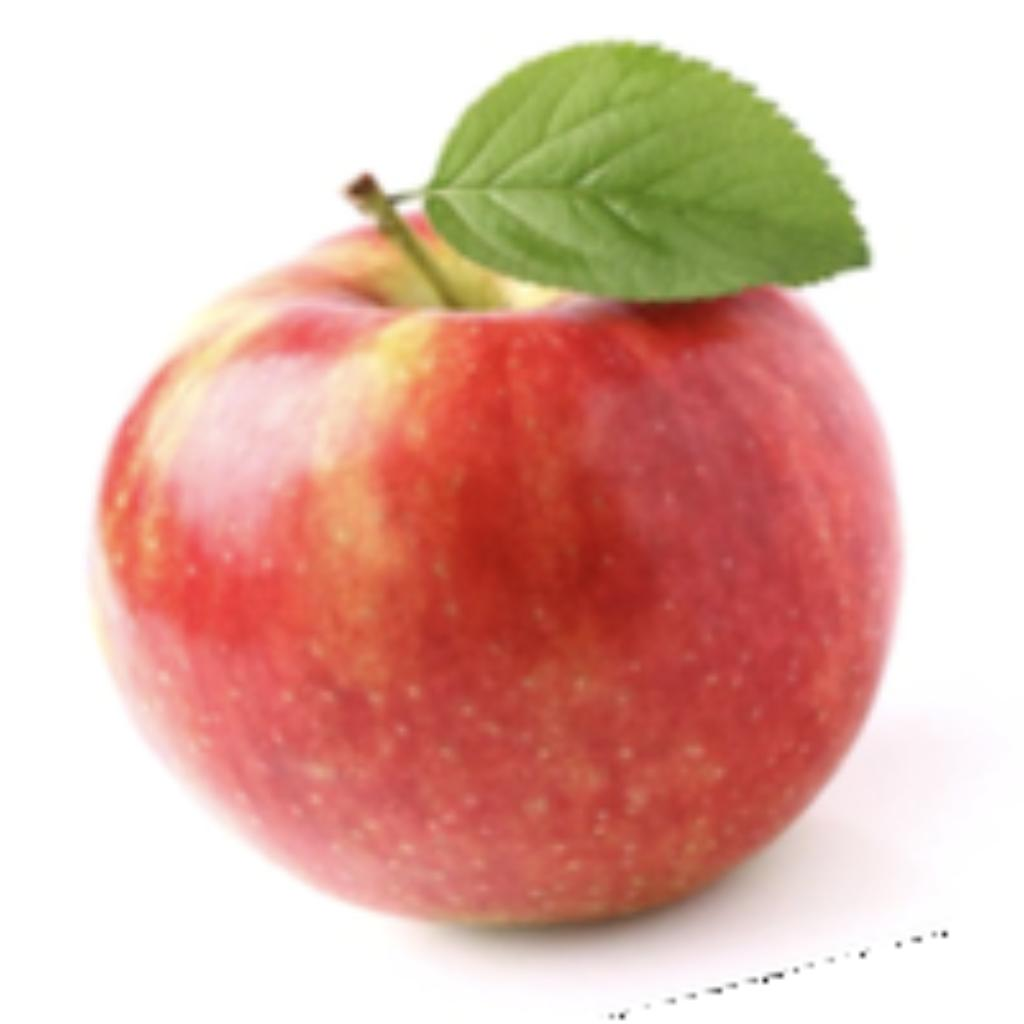apple: (77, 31, 920, 1019)
